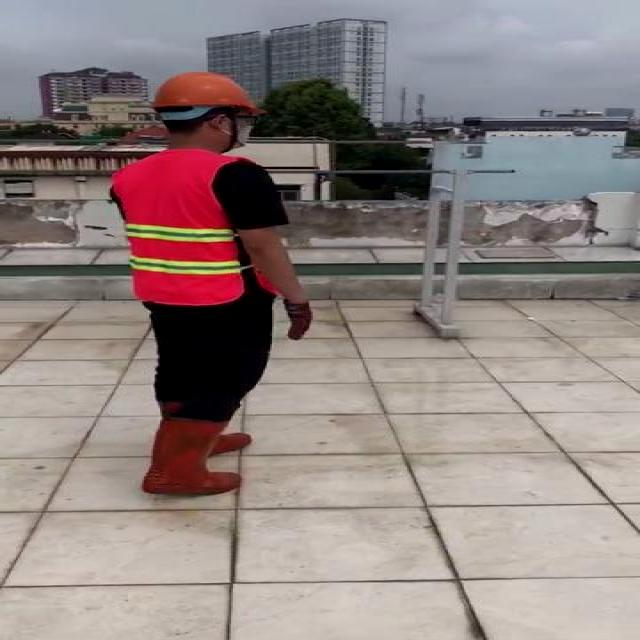boots: (139, 415, 238, 495)
hand_glove: (283, 301, 313, 341)
head_helmet: (149, 71, 265, 113)
person: (101, 69, 320, 504)
vest: (123, 150, 254, 304)
